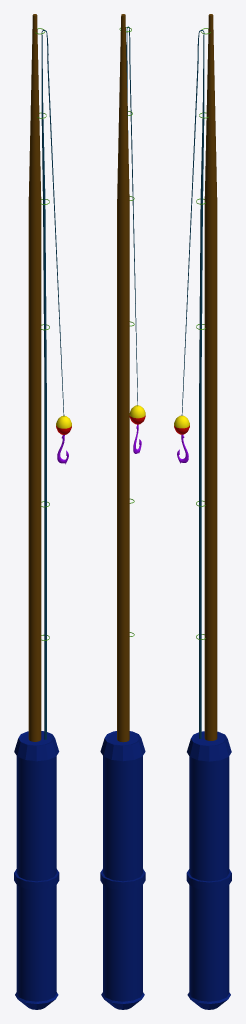
Rendered from caña de pescar.FBX.
The picture shows the model from 3 angles, left to right: view 1: azimuth 90°, elevation 25°; view 2: azimuth 150°, elevation 25°; view 3: azimuth 270°, elevation 25°; orthographic projection.
Visible parts, largest first — view 1: Cylinder002, Cylinder004, Cylinder005, Sphere001; view 2: Cylinder002, Cylinder004, Cylinder005, Sphere001; view 3: Cylinder002, Cylinder004, Cylinder005, Sphere001.
Part boxes in pixels (x1,y1,x2,y2): Cylinder002: [14, 731, 59, 1009]; Cylinder004: [28, 14, 41, 741]; Cylinder005: [41, 30, 64, 739]; Sphere001: [56, 415, 71, 434]; Cylinder002: [100, 731, 145, 1009]; Cylinder004: [117, 14, 129, 742]; Cylinder005: [126, 26, 137, 405]; Sphere001: [129, 405, 145, 424]; Cylinder002: [186, 731, 231, 1009]; Cylinder004: [204, 14, 217, 740]; Cylinder005: [181, 30, 204, 738]; Sphere001: [174, 415, 189, 434].
Bounding box in the file's own units: 2.58 × 62.22 × 3.29.
